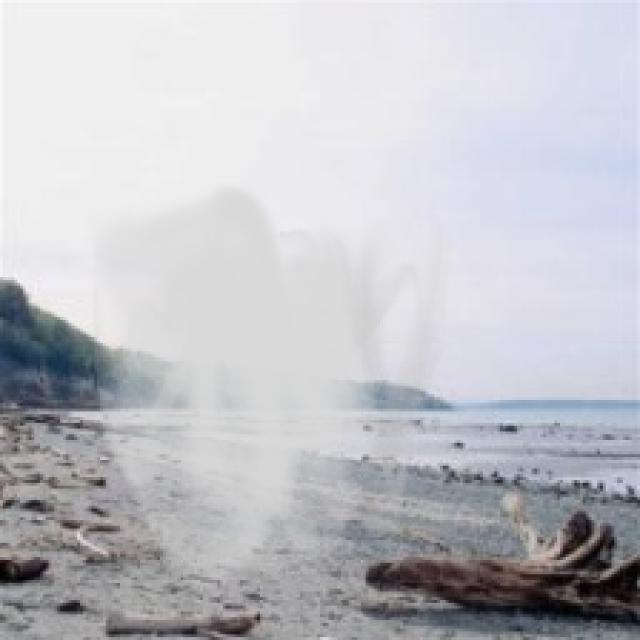smoke: (80, 180, 451, 603)
